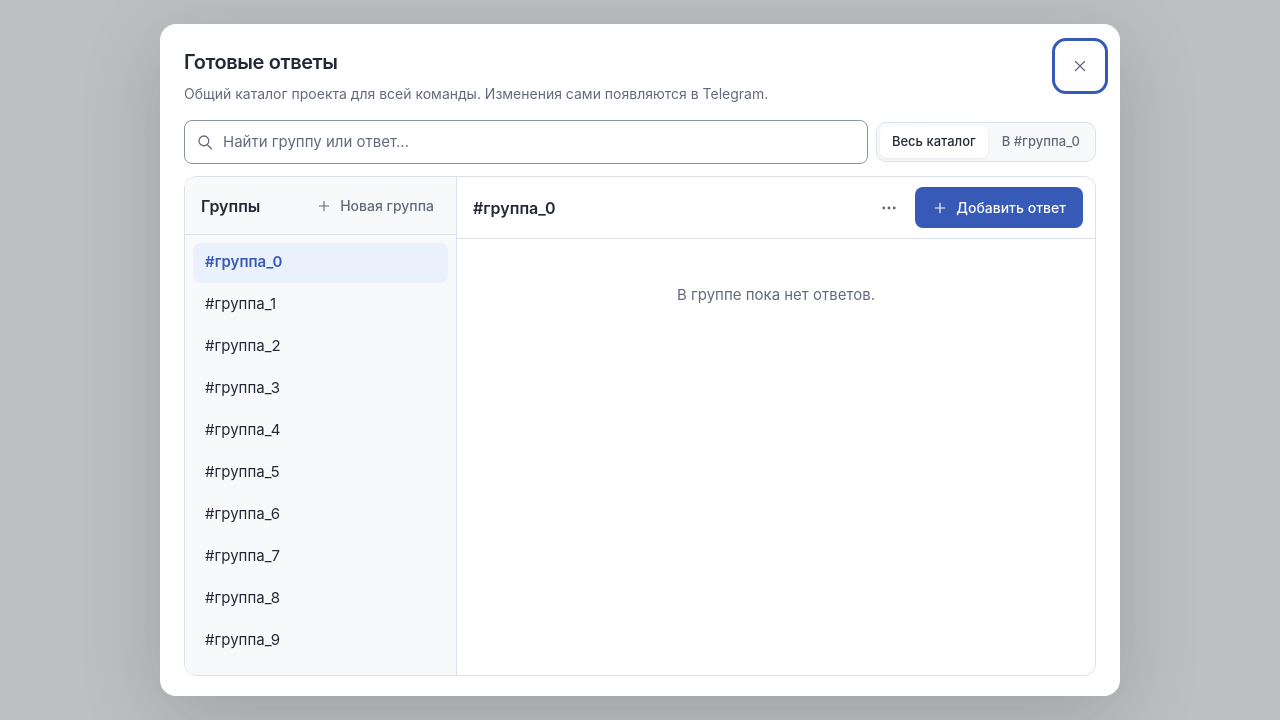
Test: quick replies catalog › names the group of every search result, even one beyond the loaded page of groups
This screenshot has width=1280, height=720.
Type "дальн" into the search field named "Поиск в каталоге" at (526, 142), box top-left (184, 120), bottom-right (868, 164)
Wait 250 ms
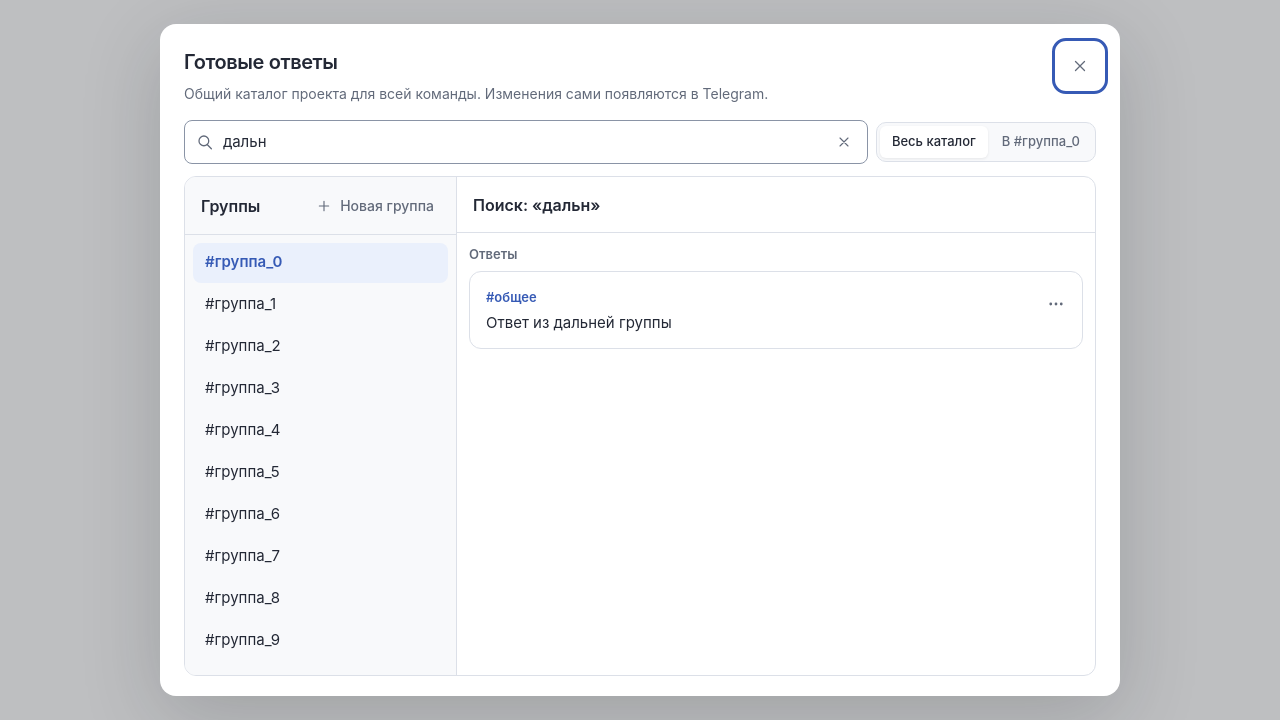
Check: the button with id "общее" reads "#общее", box top-left (486, 288), bottom-right (537, 307)
